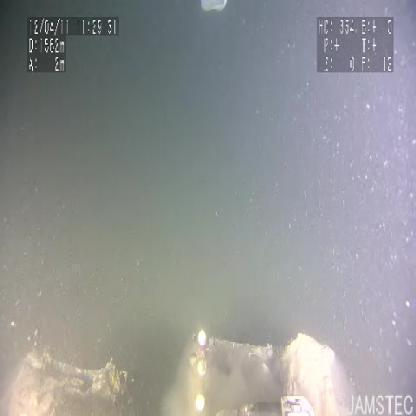Rác: (196, 0, 231, 19)
